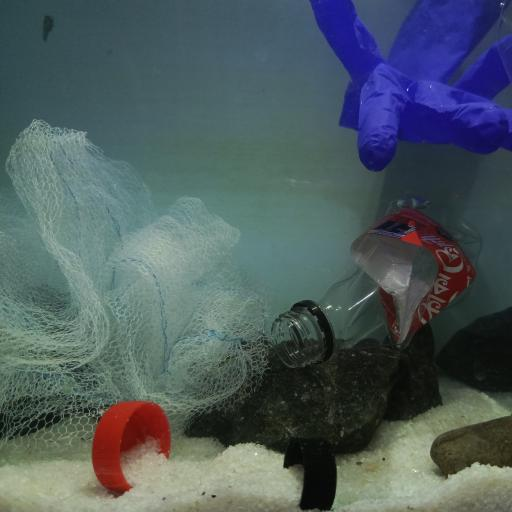bottle_cap: (93, 397, 172, 495), (282, 435, 337, 512)
glove: (308, 0, 512, 171)
net: (0, 117, 264, 446)
plastic_bottle: (272, 192, 488, 368)
